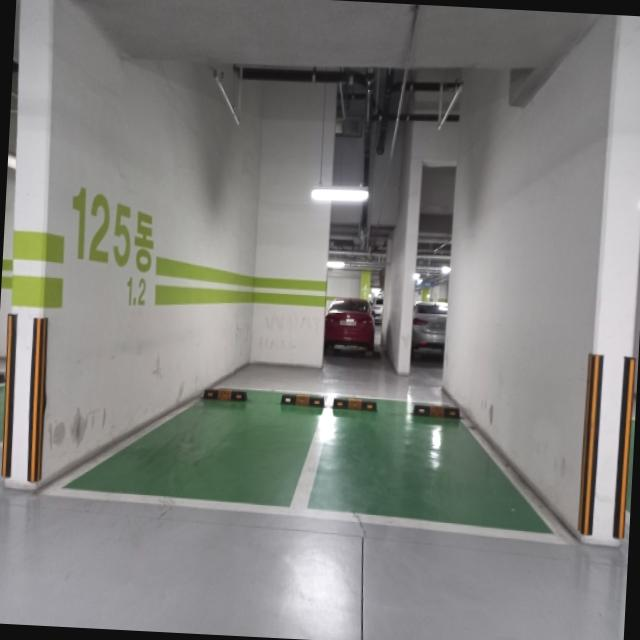free: (57, 380, 317, 510), (296, 397, 544, 532)
